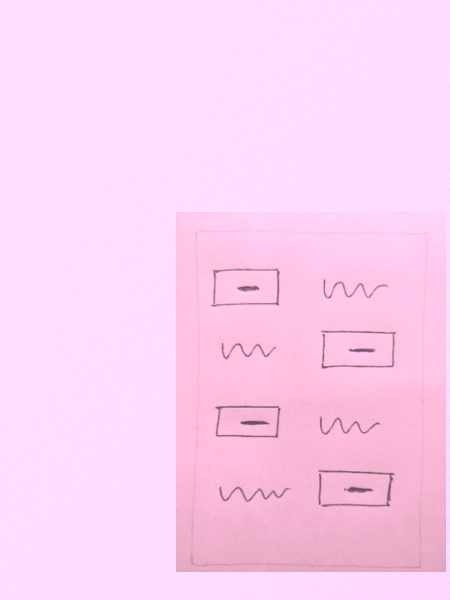button: (313, 465, 399, 514), (317, 325, 400, 373), (210, 264, 285, 311), (211, 401, 287, 444)
text: (313, 407, 384, 448), (314, 272, 391, 309), (214, 475, 295, 510), (218, 336, 280, 366)
